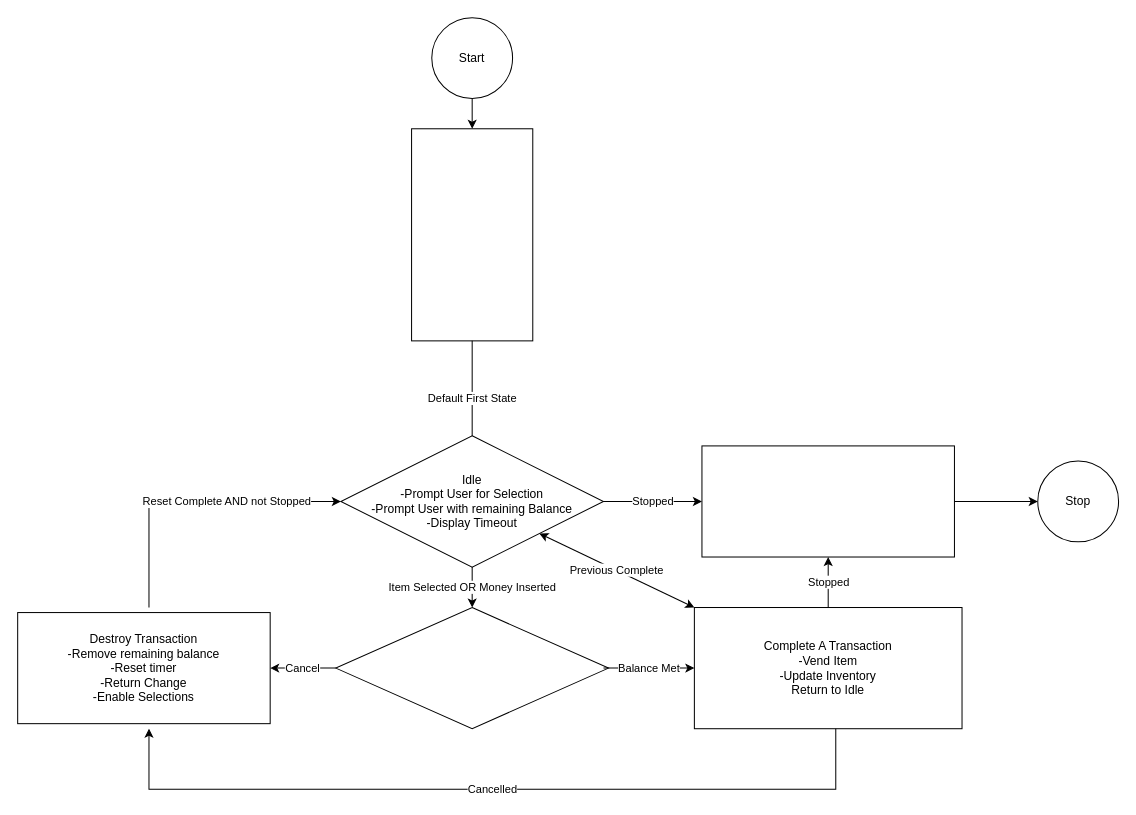
Some shapes in this 1136 by 815 pixel diagram are drawn without their labels. The box of each missing label's shape, as (x1, y1, x2, y2) in pixels:
Clean Up -Return Any Change -Update Inventory -Reset Interface: (701, 445, 954, 557)
Create Transaction -Remember any Selections -Display Balance -Display Timeout: (335, 607, 609, 729)
Initialize Vending Machine -Load Inventory -Load Prices -Reset Interface: (411, 128, 533, 341)
